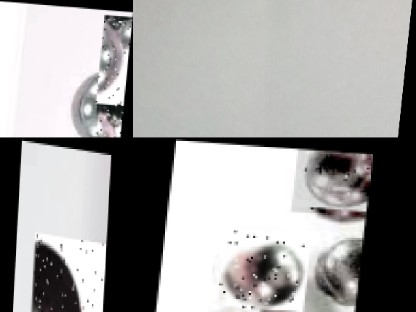ironball: (221, 226, 314, 307), (32, 229, 107, 311), (292, 146, 373, 211), (312, 226, 366, 298), (97, 11, 132, 102), (71, 69, 118, 136), (262, 305, 358, 311)
